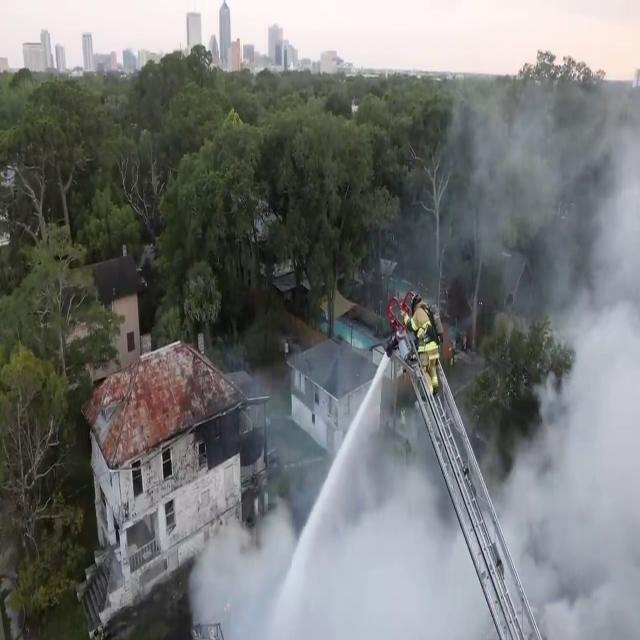Smoke: (244, 536, 402, 640)
